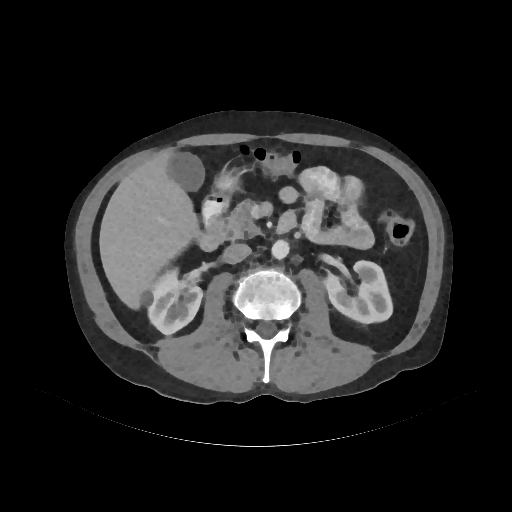Lesion: (137, 288, 156, 311)
